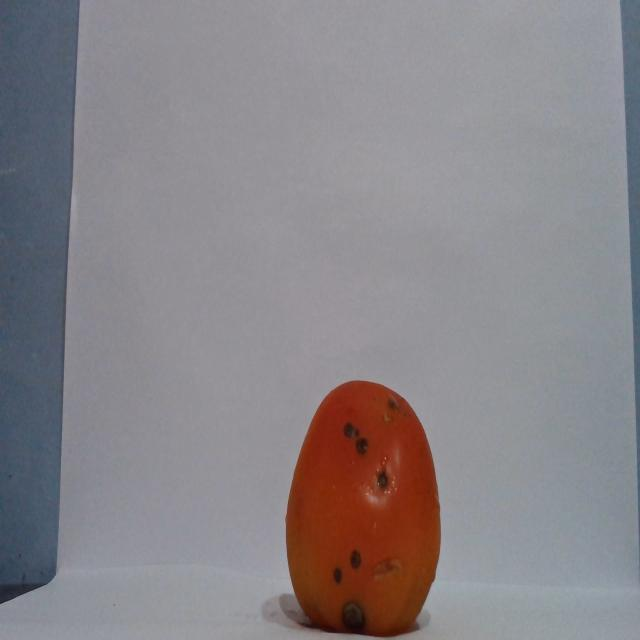Red: (283, 378, 442, 636)
